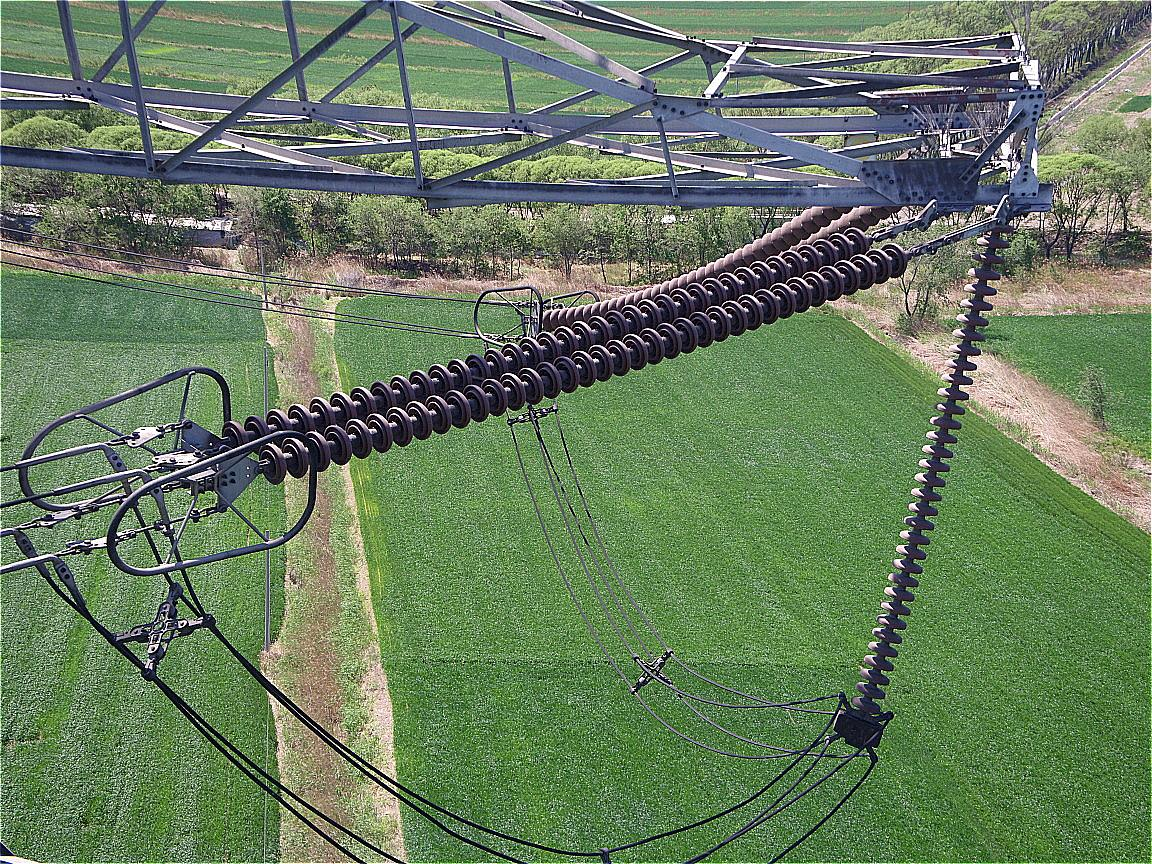insultor1: (223, 230, 907, 482), (852, 237, 1013, 708)
